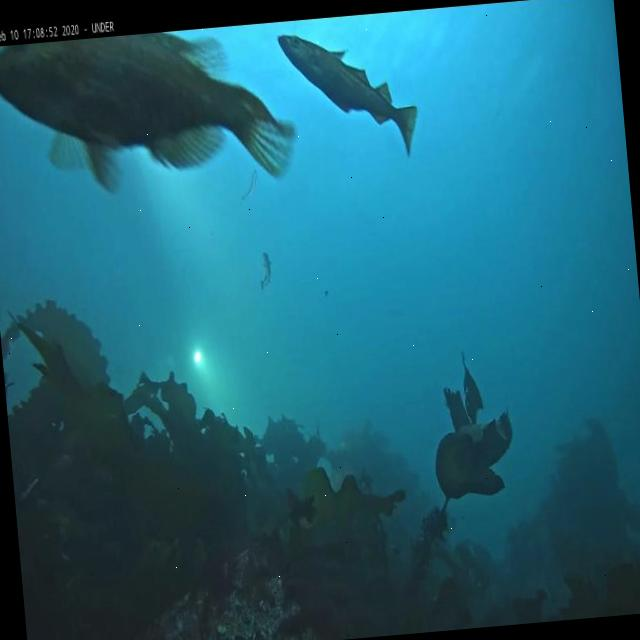fish: (0, 22, 299, 205), (276, 21, 422, 168), (238, 168, 259, 202), (258, 252, 272, 292)
